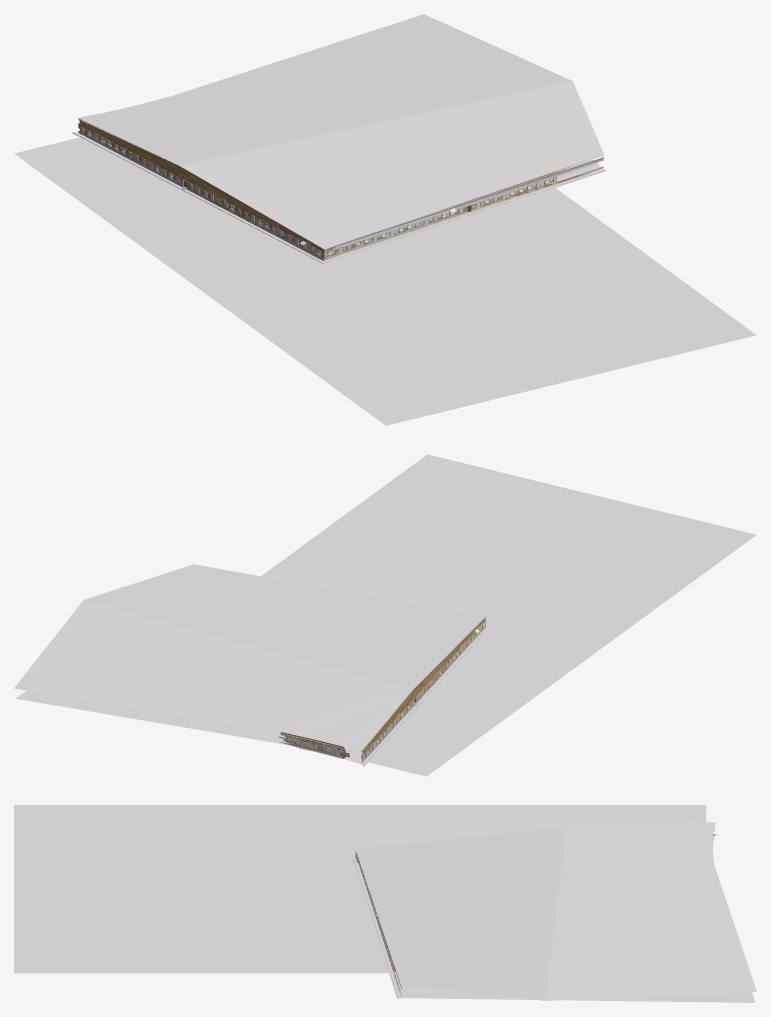
File: zona_-7_-1.glb
3 renders of one model, top to bottom at view 1: azimuth 30°, elevation 25°; view 2: azimuth 150°, elevation 25°; view 3: azimuth 270°, elevation 25°, orthographic. The views are drawn at different scales.
Parts seen in each view (by area): view 1: z_calle_-7_-1, z_tejados_-7_-1, z_fachadas_-7_-1, z_casas_-7_-1; view 2: z_calle_-7_-1, z_tejados_-7_-1, z_fachadas_-7_-1, z_casas_-7_-1; view 3: z_calle_-7_-1, z_tejados_-7_-1, z_fachadas_-7_-1.
Boxes of the visible parts, x1,y1,x2,y2 form: z_calle_-7_-1: (14,128,756,425); z_tejados_-7_-1: (78,14,604,249); z_fachadas_-7_-1: (78,123,603,260); z_casas_-7_-1: (78,119,588,258); z_calle_-7_-1: (15,454,756,776); z_tejados_-7_-1: (14,564,486,751); z_fachadas_-7_-1: (278,619,485,763); z_casas_-7_-1: (280,617,485,760); z_calle_-7_-1: (14,805,755,1002); z_tejados_-7_-1: (354,822,756,1000); z_fachadas_-7_-1: (355,834,714,996).
Bounding box in the file's own units: 145 × 6.04 × 213.
